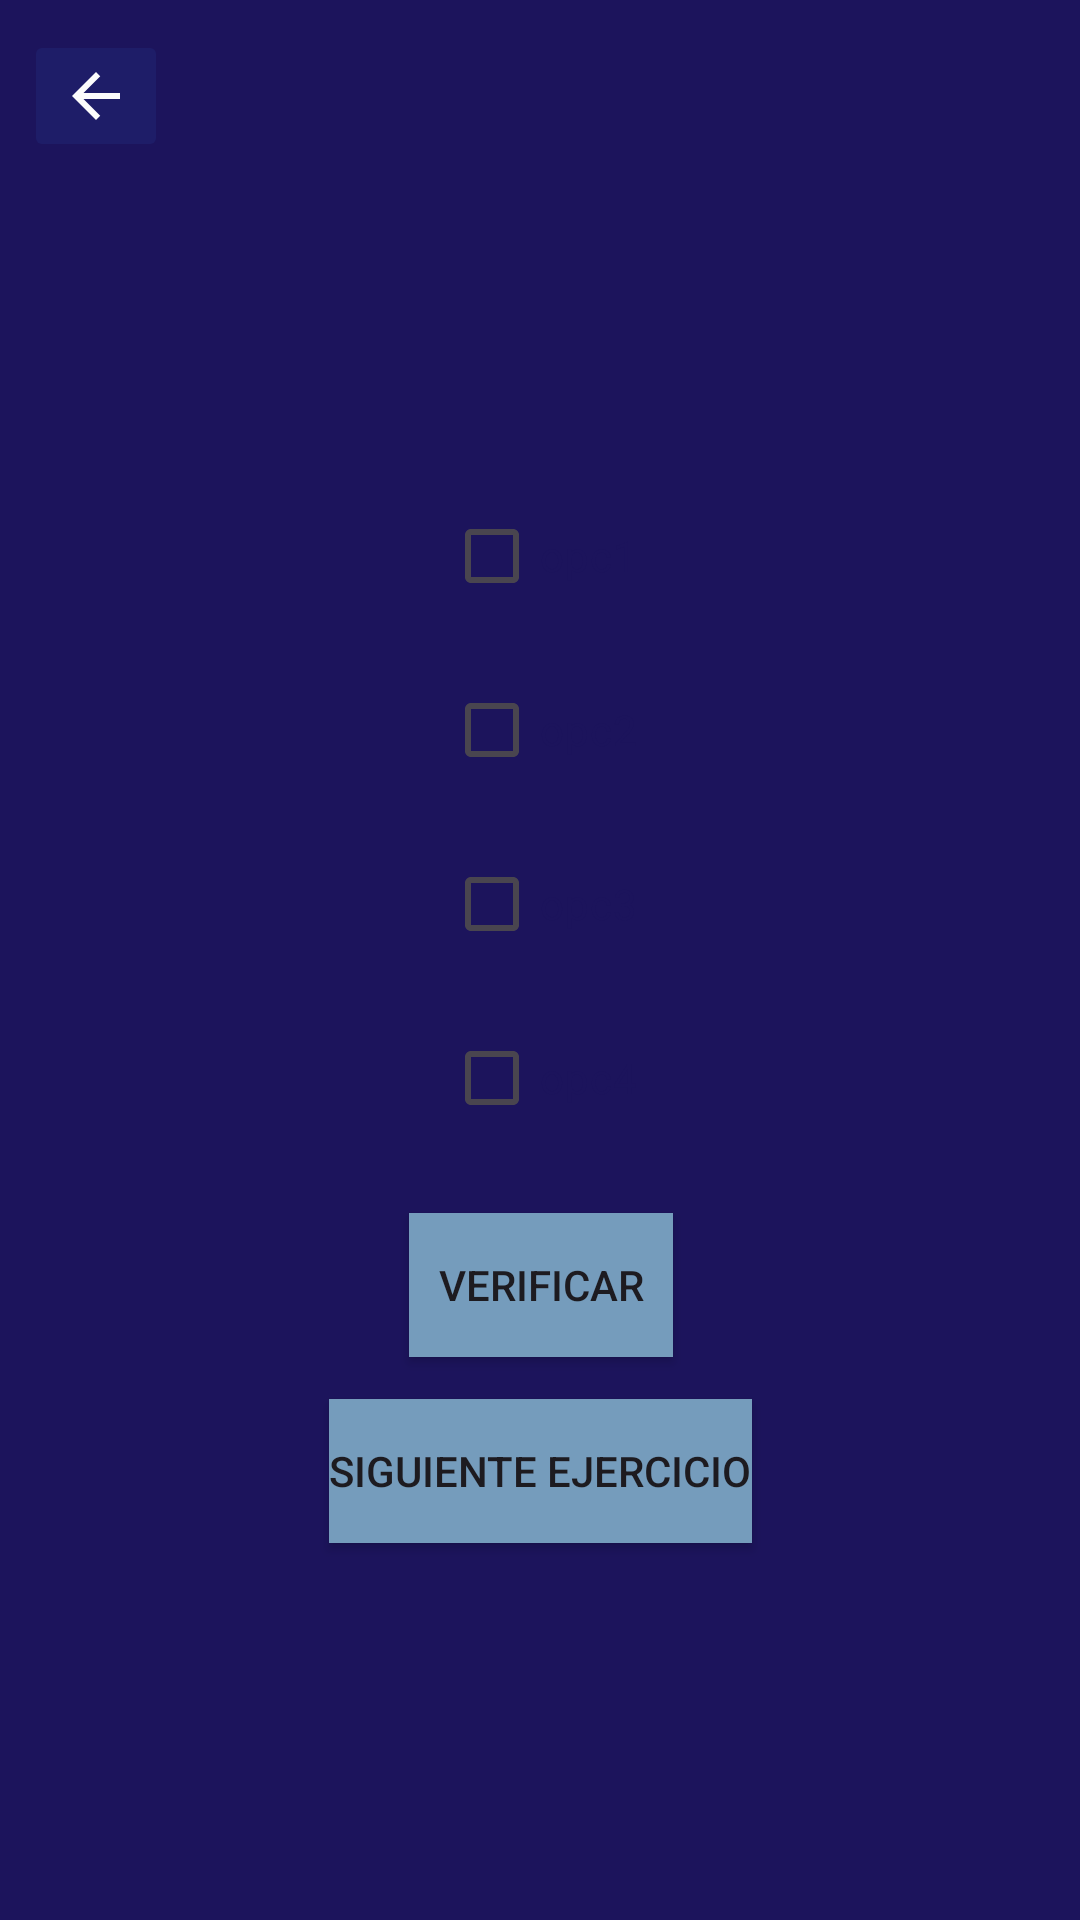

Icon bounding boxes for this 1080*1920 phone screenshot, format (x1, y1, x2, y2):
arrow back: (36, 48, 156, 144)
